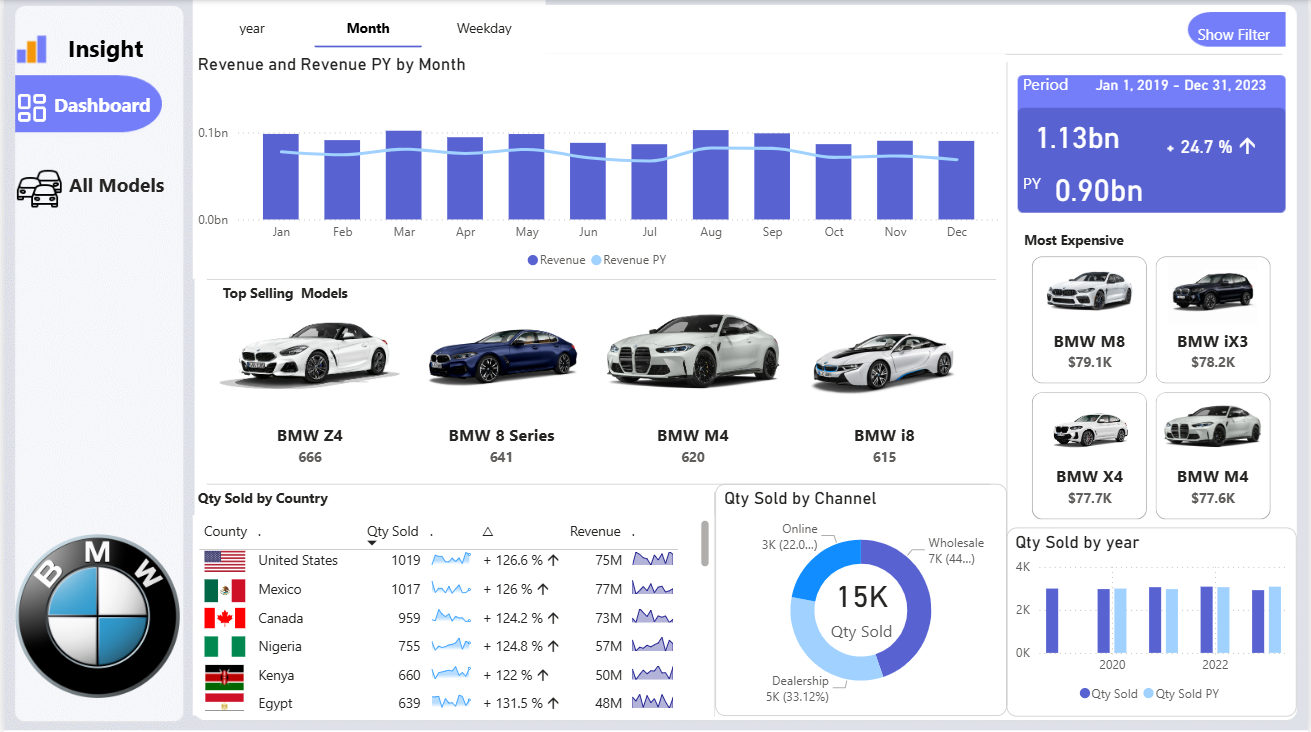

The dashboard page shown, as its layout file describes it:
{"tool":"powerbi","page":{"name":"Dashboard","canvas":[1280,720],"ordinal":0},"visuals":[{"type":"lineStackedColumnComboChart","fields":{"Category":["Calendar.Month"],"Y":["All Measures.Revenue"],"Y2":["All Measures.Revenue PY"]},"box":[185.3,52.8,797.6,220.9],"z":0},{"type":"advancedSlicerVisual","fields":{"Values":["PeriodSlicer.PeriodSlicer"]},"box":[185.3,0,346,52.8],"z":1000},{"type":"card","fields":{"Values":["All Measures.Revenue"]},"box":[995.4,102.5,117.1,60.2],"z":2000},{"type":"card","fields":{"Values":["All Measures.Revenue PY"]},"box":[1024.7,162.7,100.8,43.9],"z":3000},{"type":"textbox","box":[995.4,162.7,29.3,43.9],"z":4000},{"type":"card","fields":{"Values":["All Measures.Revenue Variance % Arrow"]},"box":[1125.6,126.9,115.5,35.8],"z":5000},{"type":"card","fields":{"Values":["All Measures.Selected Period"]},"box":[1054,66.7,203.3,35.8],"z":6000},{"type":"textbox","box":[995.4,66.7,79.7,35.8],"z":7000},{"type":"advancedSlicerVisual","fields":{"Values":["dimModel.Model"]},"box":[185.3,273.3,797.3,201.3],"z":8000},{"type":"textbox","box":[209.8,273.3,149.6,30.9],"z":9000},{"type":"advancedSlicerVisual","fields":{"Values":["dimModel.Model"]},"box":[984.1,246.6,284.7,269.9],"z":10000},{"type":"textbox","box":[996.1,221.1,117.1,34.2],"z":11000},{"type":"clusteredColumnChart","title":"Qty Sold by year","fields":{"Y":["All Measures.Qty Sold","All Measures.Qty Sold PY"],"Category":["Calendar.year"]},"box":[984.1,517.8,284.7,185.3],"z":12000},{"type":"donutChart","fields":{"Y":["All Measures.Qty Sold"],"Category":["dimChannel.Channel"]},"box":[697.8,475,286.3,227.7],"z":13000},{"type":"card","fields":{"Values":["All Measures.Qty Sold"]},"box":[771,517.2,143.1,154.5],"z":14000},{"type":"tableEx","fields":{"Values":["dimCountry.Countries with Flags URL.Flag","dimCountry.Country","All Measures.Qty Sold","All Measures.Qty Sold Sparkline","All Measures.Qty Sold Variance % Arrow","All Measures.Revenue","All Measures.Revenue Sparkline"]},"box":[185.4,505.9,512.4,196.8],"z":15000},{"type":"textbox","box":[185.4,475,216.3,30.9],"z":16000},{"type":"textbox","box":[43.9,84.6,107.4,42.3],"z":17000},{"type":"image","box":[11.4,84.6,32.5,42.3],"z":18000},{"type":"textbox","box":[58.6,162.7,113.9,43.9],"z":19000},{"type":"actionButton","box":[11.4,162.7,161,40.7],"z":20000},{"type":"image","box":[11.4,162.7,47.2,43.9],"z":21000},{"type":"actionButton","box":[1156.9,13.7,100.5,39.7],"z":23000},{"type":"actionButton","box":[58.3,26.1,114.2,41],"z":24000},{"type":"image","box":[11.2,26.1,32.3,42.2],"z":25000},{"type":"image","box":[11.2,506.2,161.2,196.2],"z":26000}]}

Visuals, with their boxes on the page's 1280x720 design canvas (x1, y1, x2, y2). These are canvas units, not pixel positions in the 1311x732 screenshot, which may show the page scaled, cropped or inside an application window:
lineStackedColumnComboChart - Calendar.Month x All Measures.Revenue: l=185, t=53, r=983, b=274
advancedSlicerVisual - PeriodSlicer.PeriodSlicer: l=185, t=0, r=531, b=53
card - All Measures.Revenue: l=995, t=102, r=1112, b=163
card - All Measures.Revenue PY: l=1025, t=163, r=1126, b=207
textbox: l=995, t=163, r=1025, b=207
card - All Measures.Revenue Variance % Arrow: l=1126, t=127, r=1241, b=163
card - All Measures.Selected Period: l=1054, t=67, r=1257, b=102
textbox: l=995, t=67, r=1075, b=102
advancedSlicerVisual - dimModel.Model: l=185, t=273, r=983, b=475
textbox: l=210, t=273, r=359, b=304
advancedSlicerVisual - dimModel.Model: l=984, t=247, r=1269, b=516
textbox: l=996, t=221, r=1113, b=255
"Qty Sold by year" clusteredColumnChart: l=984, t=518, r=1269, b=703
donutChart - All Measures.Qty Sold x dimChannel.Channel: l=698, t=475, r=984, b=703
card - All Measures.Qty Sold: l=771, t=517, r=914, b=672
tableEx - dimCountry.Countries with Flags URL.Flag x dimCountry.Country: l=185, t=506, r=698, b=703
textbox: l=185, t=475, r=402, b=506
textbox: l=44, t=85, r=151, b=127
image: l=11, t=85, r=44, b=127
textbox: l=59, t=163, r=172, b=207
actionButton: l=11, t=163, r=172, b=203
image: l=11, t=163, r=59, b=207
actionButton: l=1157, t=14, r=1257, b=53
actionButton: l=58, t=26, r=172, b=67
image: l=11, t=26, r=44, b=68
image: l=11, t=506, r=172, b=702
